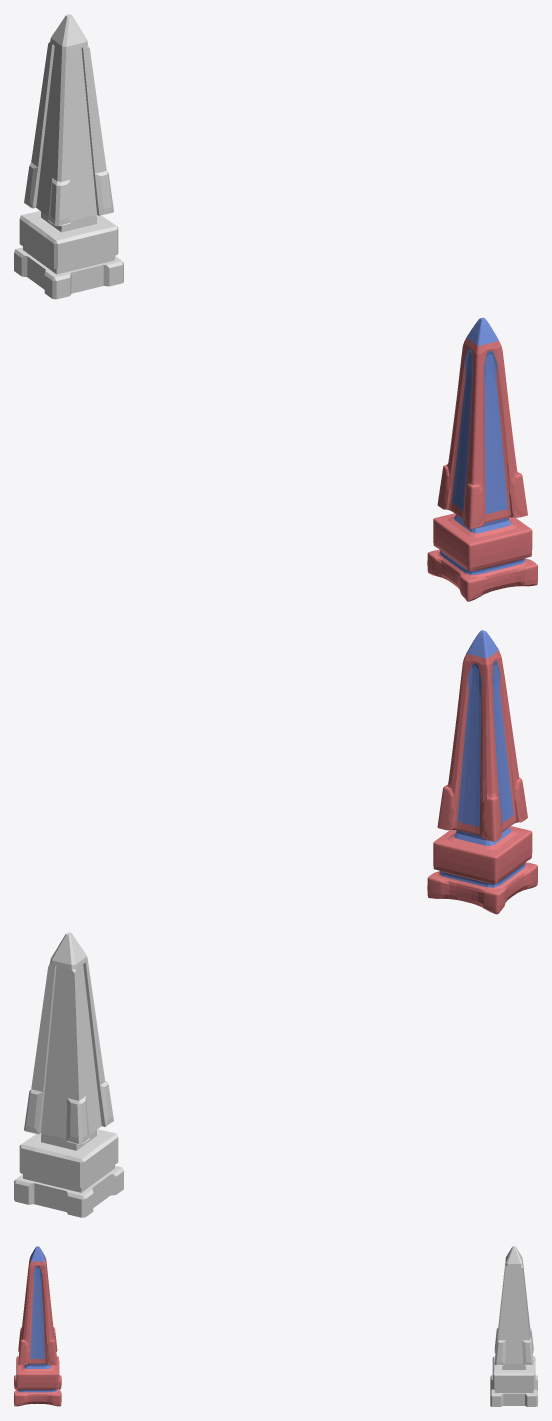
File: 20-AncientObelisk.fbx
The picture shows the model from 3 angles, top to bottom: view 1: azimuth 30°, elevation 25°; view 2: azimuth 150°, elevation 25°; view 3: azimuth 270°, elevation 25°; orthographic projection. The views are drawn at different scales.
Parts seen in each view (by area): view 1: GameAncientObelisk, AncientObelisk; view 2: GameAncientObelisk, AncientObelisk; view 3: GameAncientObelisk, AncientObelisk.
Boxes of the visible parts, x1,y1,x2,y2 form: GameAncientObelisk: [14, 14, 123, 299]; AncientObelisk: [427, 317, 537, 601]; GameAncientObelisk: [14, 932, 123, 1217]; AncientObelisk: [427, 630, 537, 914]; GameAncientObelisk: [490, 1246, 537, 1406]; AncientObelisk: [14, 1246, 61, 1406].
Size of the model in its own units: 109 by 377 by 1194.
